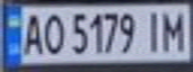1: (84, 10, 106, 54)
5: (66, 9, 87, 55)
7: (103, 9, 121, 54)
9: (118, 9, 142, 54)
A: (18, 10, 45, 56)
I: (139, 8, 166, 53)
M: (157, 7, 190, 53)
O: (39, 10, 66, 56)
